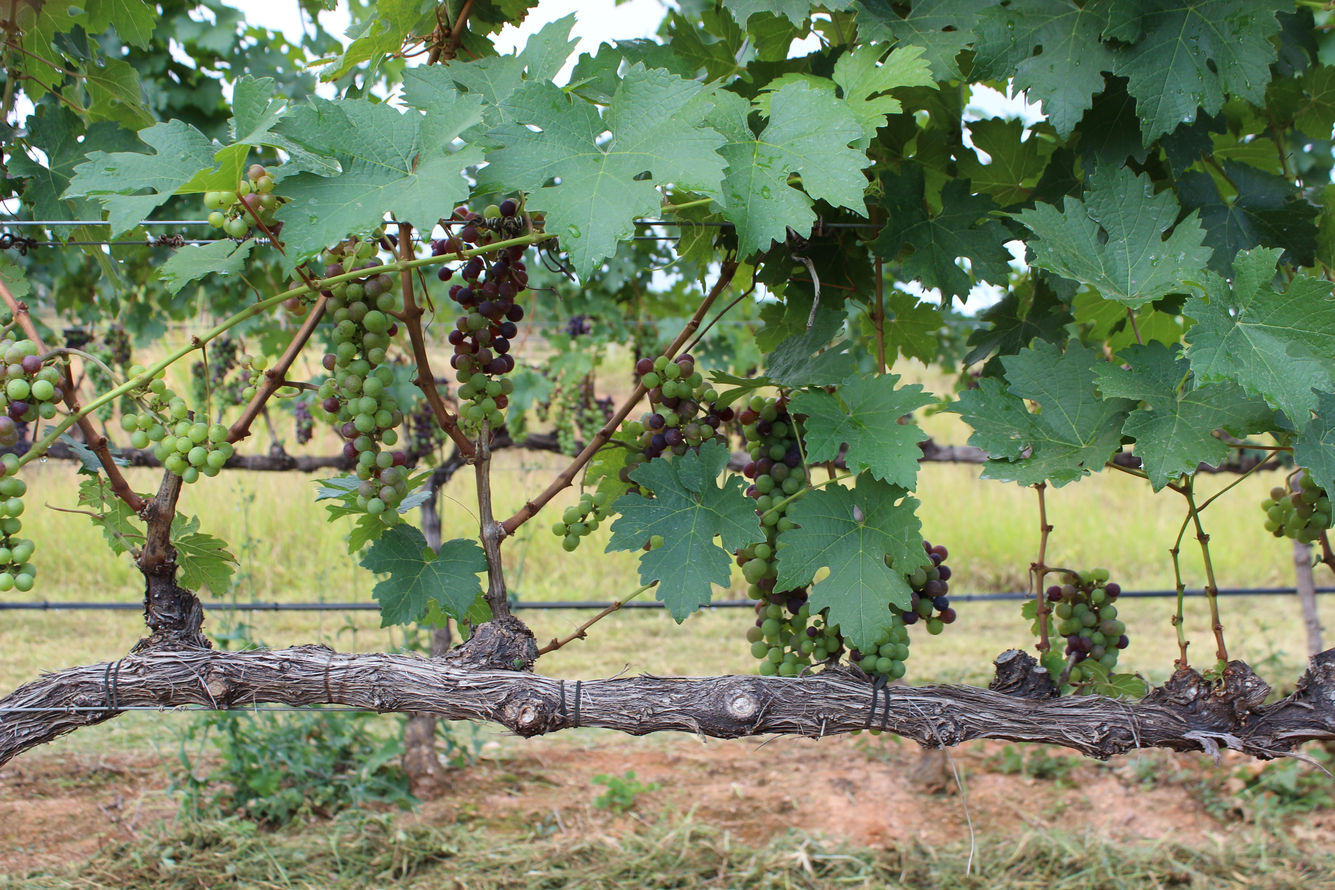leaf: (478, 64, 724, 278), (275, 93, 483, 255), (705, 81, 871, 257), (606, 440, 762, 622), (943, 340, 1134, 487), (1016, 165, 1211, 307), (1183, 249, 1335, 430), (776, 473, 929, 650), (1105, 0, 1291, 145), (1095, 342, 1274, 491), (973, 0, 1114, 139), (872, 163, 1013, 301), (61, 119, 217, 239), (790, 374, 936, 490), (1179, 159, 1319, 275), (360, 523, 486, 626), (852, 0, 991, 81), (963, 276, 1073, 365), (959, 117, 1054, 207), (171, 513, 236, 595), (159, 239, 255, 294), (882, 291, 944, 364), (1293, 391, 1335, 491), (722, 0, 809, 26), (973, 176, 977, 182), (678, 182, 681, 184), (331, 239, 333, 241), (975, 136, 976, 139), (322, 243, 323, 245), (549, 228, 550, 230), (285, 233, 285, 234)
